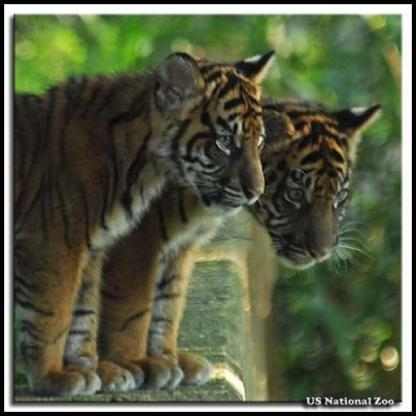Tiger: (0, 30, 283, 364), (126, 90, 380, 378)
